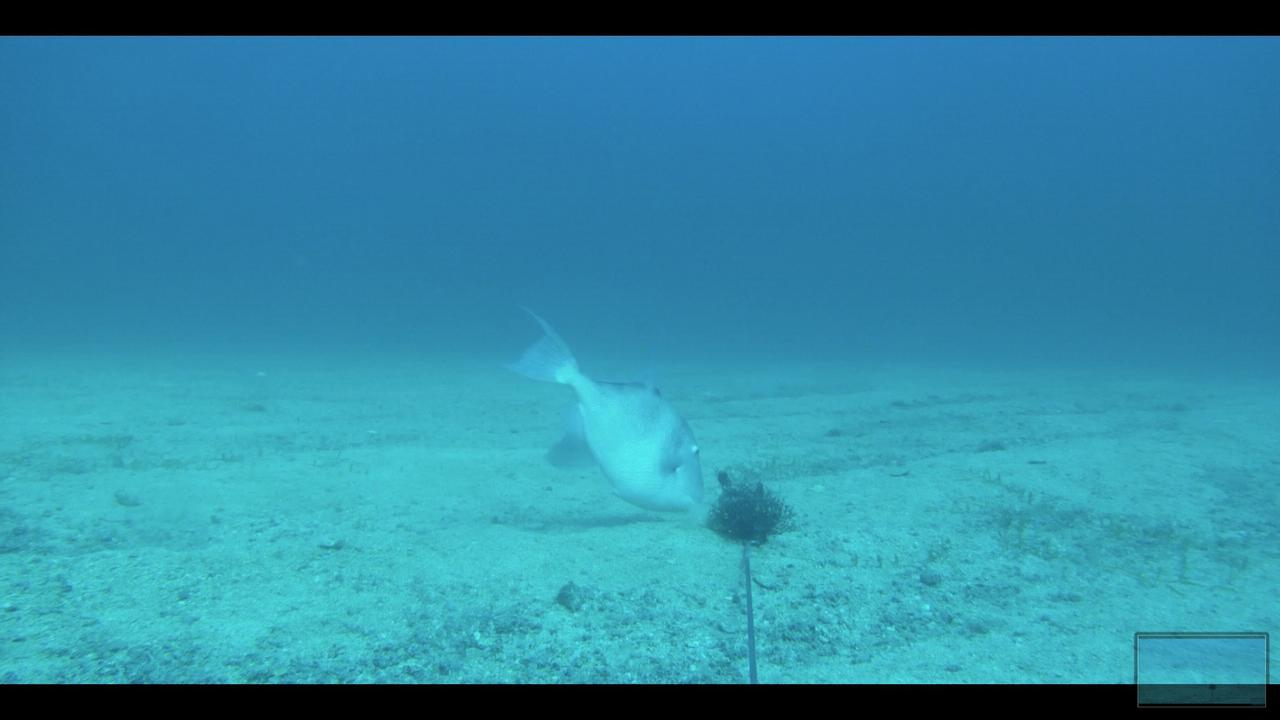balistes: (486, 297, 708, 517)
